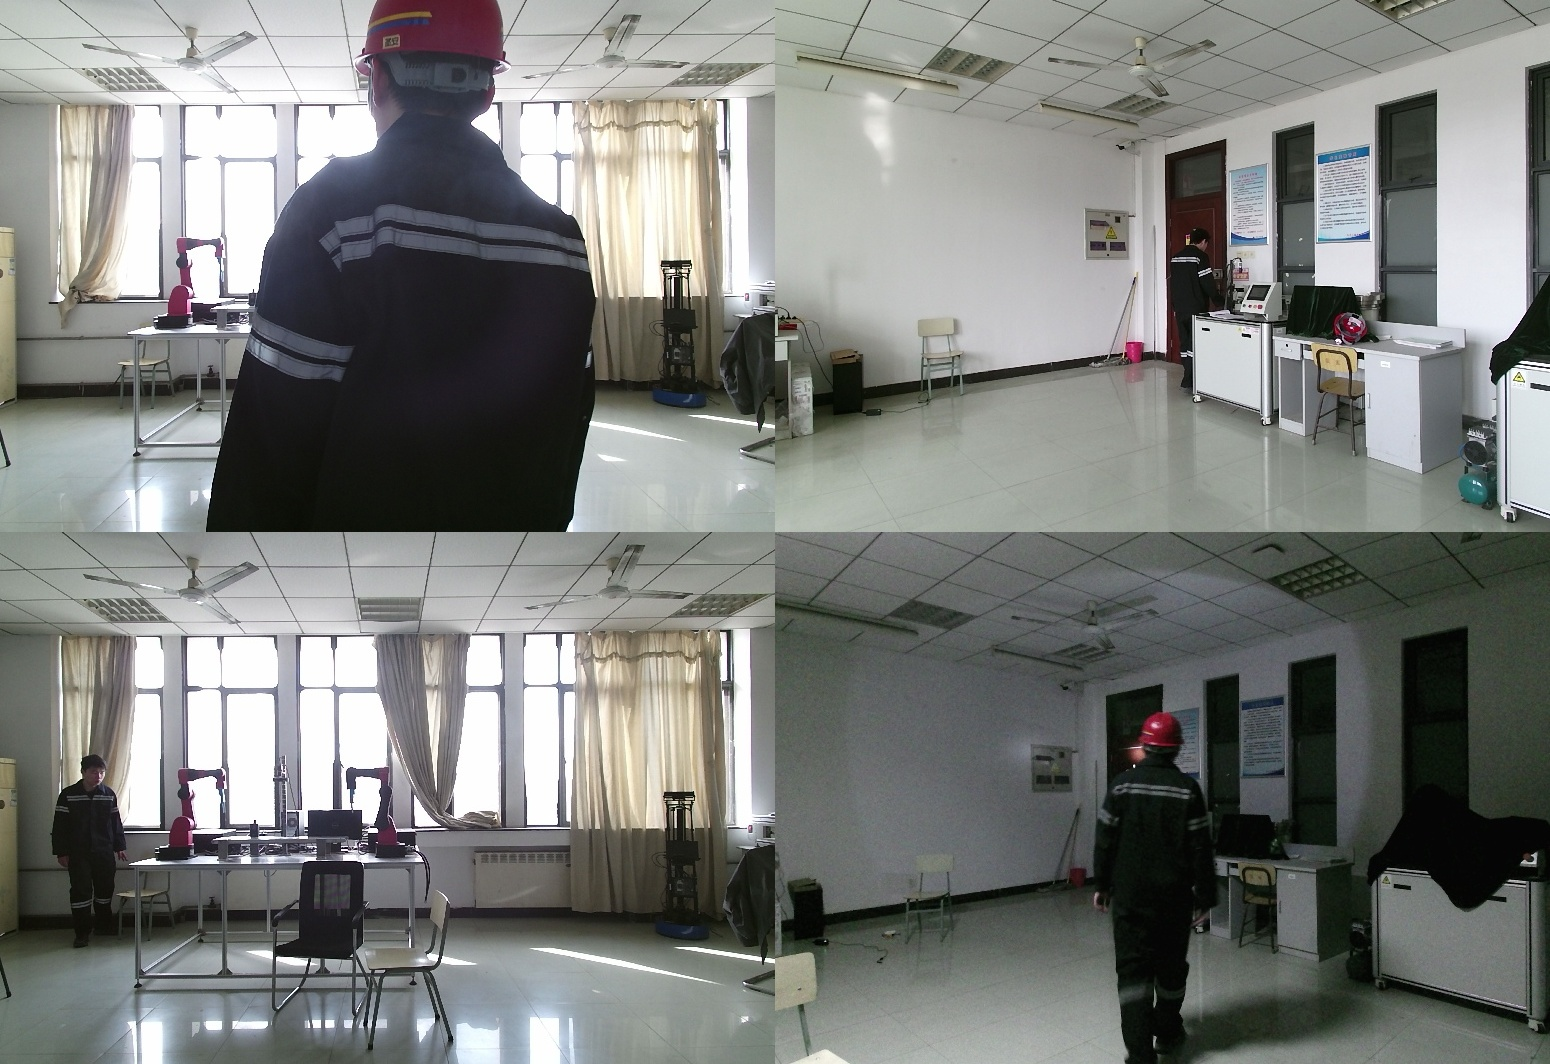person: (209, 1, 594, 532), (1088, 710, 1227, 1064), (42, 756, 127, 947), (1170, 232, 1228, 401)
